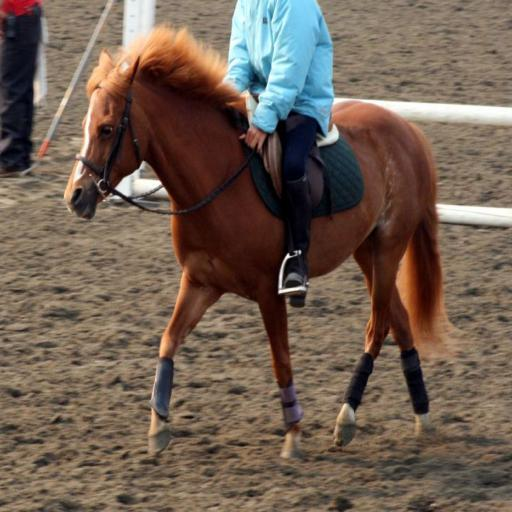horse: (63, 18, 459, 462)
